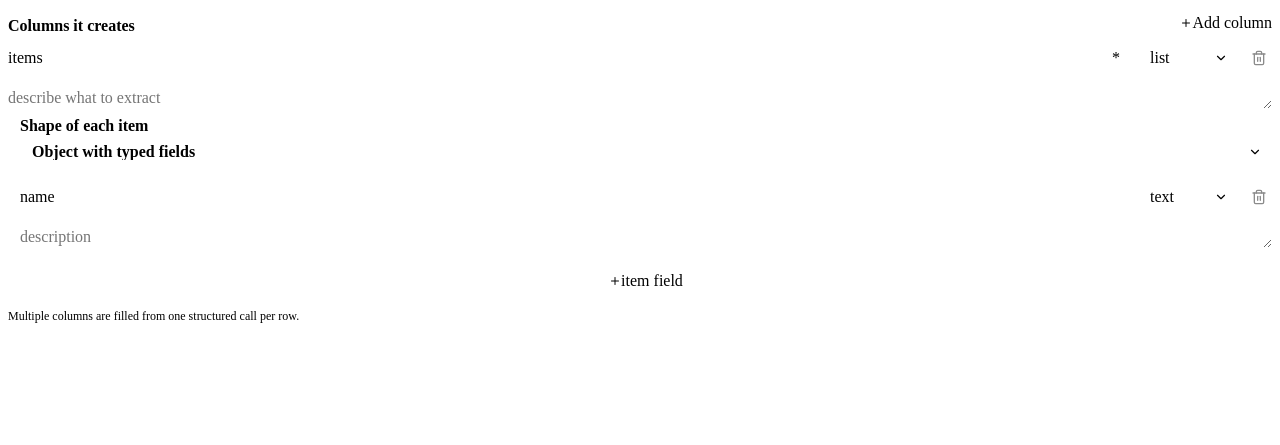
Test case: uses the same editable controls for nested fields without changing add/remove limits
Expected: the button with test id "list-item-field-delete" is disabled, [1246,184,1272,210]
Click the button with test id "list-item-field-add" at (646, 281), box [20,272,1272,290]
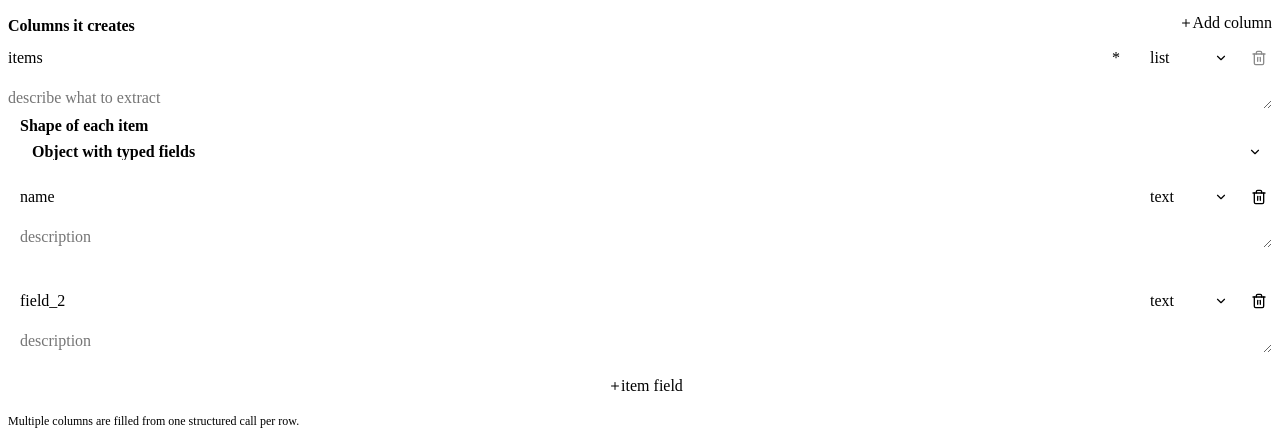
Expected: the number of fields with test id "list-item-field-name" is 2
Replace the text in the 2nd field with test id "list-item-field-name" with "city" at (575, 301), box [20,292,1130,310]
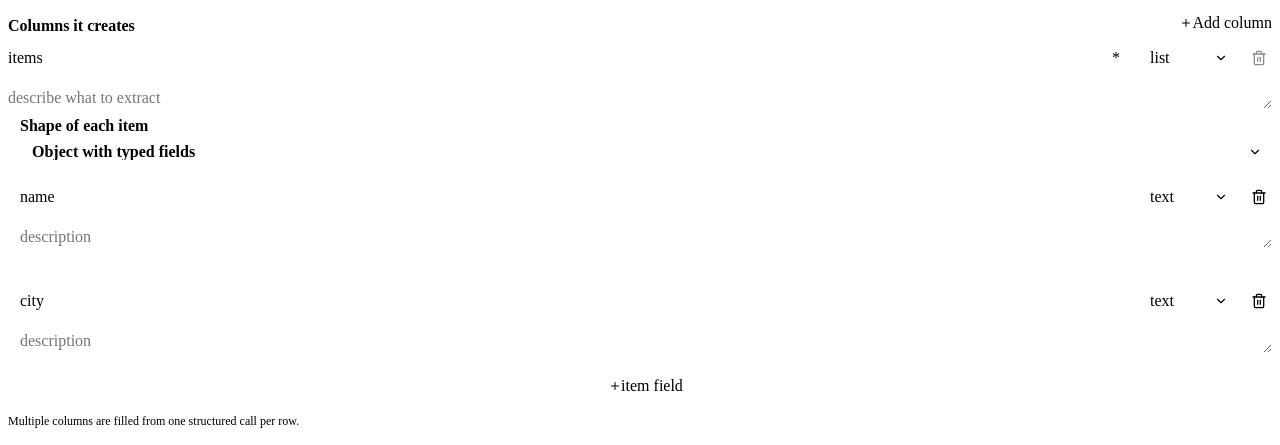
Click the 2nd button with test id "list-item-field-delete" at (1259, 301), box [1246,288,1272,314]
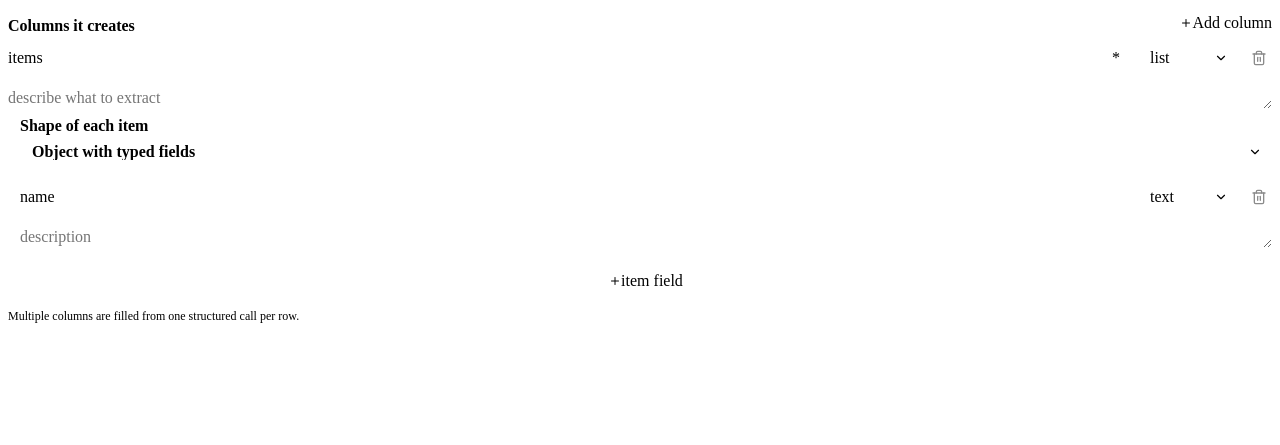
Expected: the button with test id "list-item-field-delete" is disabled, [1246,184,1272,210]
